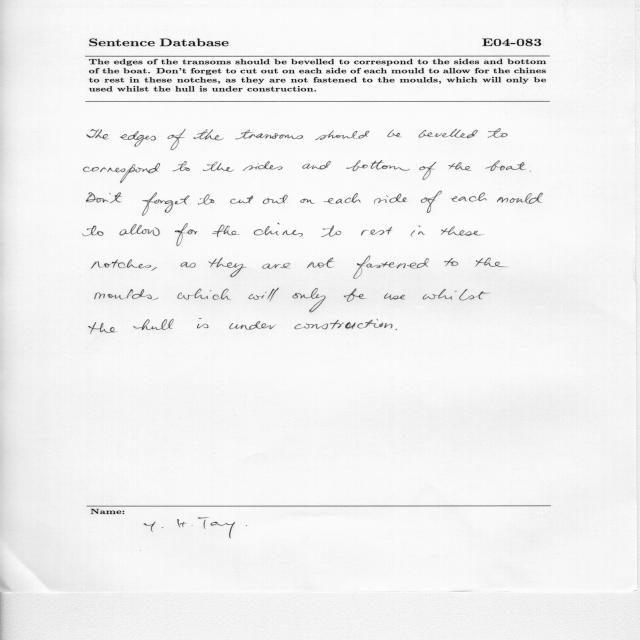word: (353, 256, 429, 279), (83, 163, 160, 183), (143, 192, 190, 216), (295, 319, 393, 329), (293, 288, 326, 312), (209, 257, 247, 277), (423, 289, 490, 300), (347, 161, 410, 172), (254, 223, 303, 237), (236, 130, 303, 140), (92, 259, 152, 269), (177, 289, 231, 300), (120, 131, 156, 147), (95, 289, 152, 299), (316, 131, 370, 141), (419, 129, 478, 138), (497, 193, 543, 204), (175, 223, 197, 246), (119, 224, 160, 236), (421, 191, 442, 213), (485, 160, 526, 171), (441, 226, 485, 236), (134, 319, 174, 330), (248, 288, 279, 302), (229, 321, 276, 330), (87, 193, 123, 204), (324, 193, 360, 204), (243, 161, 282, 171), (168, 129, 186, 150), (212, 225, 240, 238), (89, 322, 117, 334), (194, 130, 224, 141), (374, 194, 407, 204), (451, 193, 487, 202), (203, 162, 234, 172), (344, 288, 366, 302), (420, 162, 437, 180), (307, 257, 334, 268), (475, 258, 508, 267), (361, 227, 392, 236), (321, 225, 341, 237), (302, 161, 331, 169), (263, 195, 288, 204), (87, 129, 109, 139), (83, 226, 103, 237), (449, 162, 472, 171), (230, 196, 254, 204), (198, 194, 215, 205), (488, 129, 508, 138), (172, 161, 190, 171), (262, 263, 290, 269), (411, 226, 425, 237), (384, 293, 405, 299), (445, 258, 459, 266), (197, 319, 208, 329), (388, 130, 402, 137), (181, 262, 196, 268), (300, 199, 315, 204), (151, 267, 157, 271), (153, 298, 159, 300), (530, 171, 531, 172), (396, 329, 397, 330)
